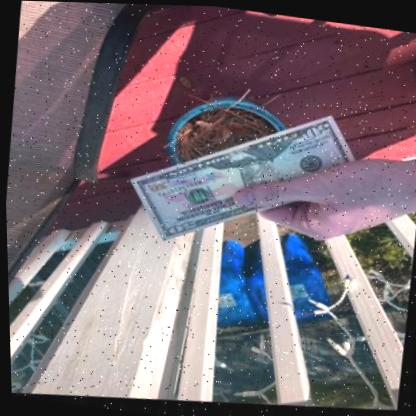fifty-front: (128, 118, 361, 242)
